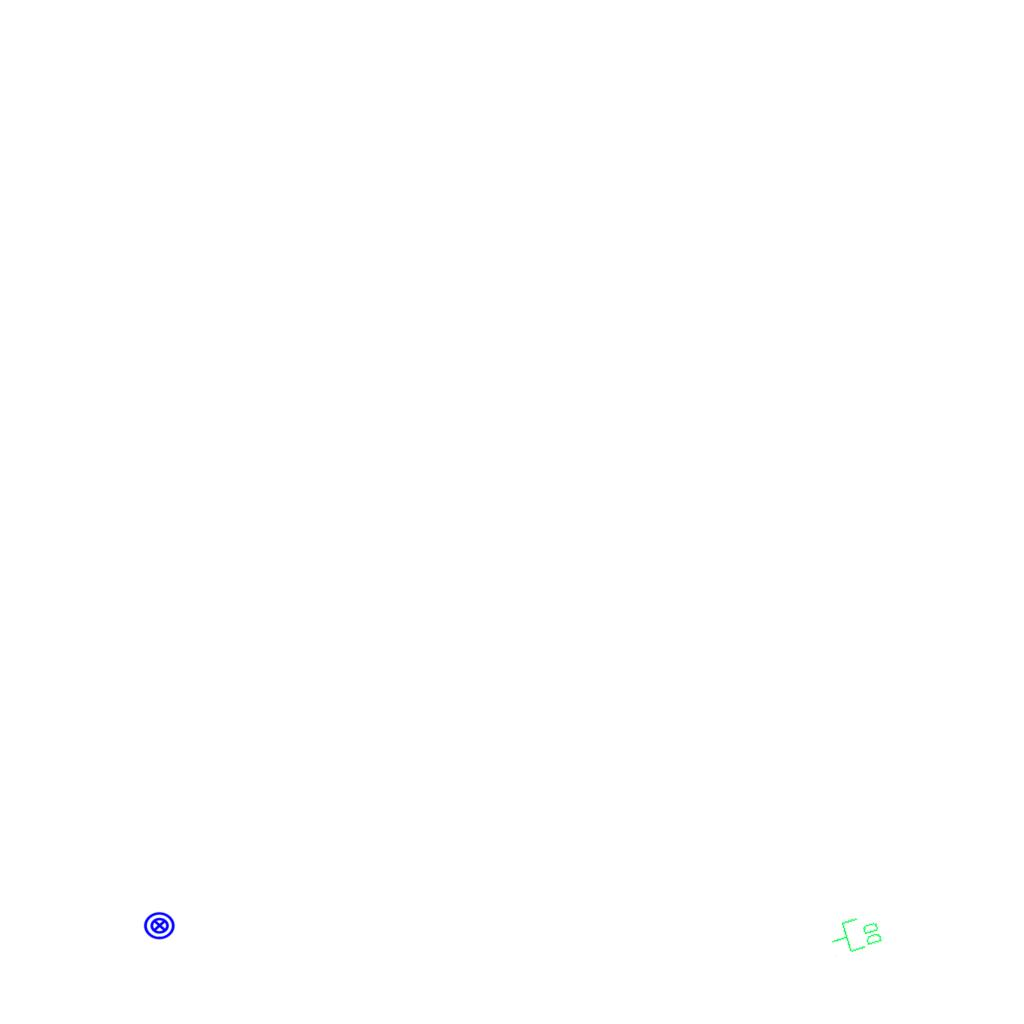Datenanschluss_zweifach: (826, 911, 885, 959)
Taster_beleuchtet: (143, 909, 176, 942)
